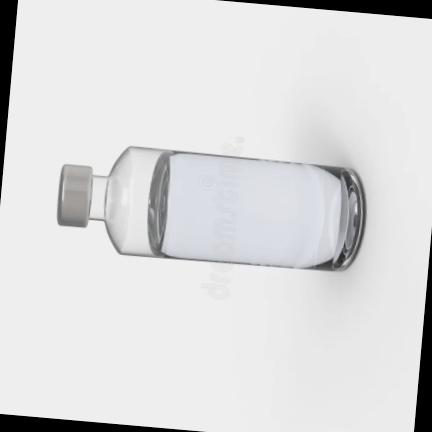container: (105, 146, 363, 270)
fluid: (161, 153, 363, 270)
fluid-surface: (147, 152, 173, 255)
